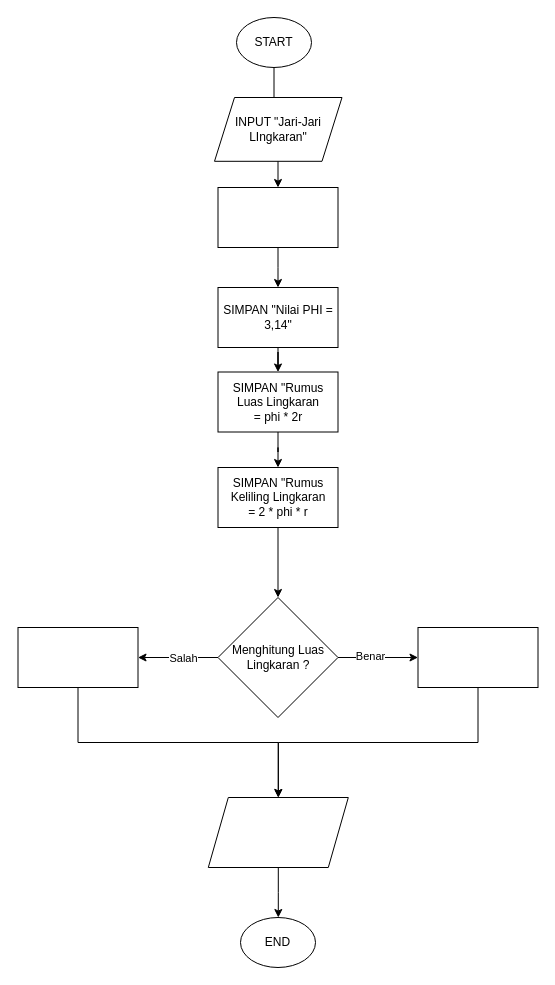
This 555x985 diagram has some shape labels left out. Each missing label, with the centre of its shape:
MENGHITUNG Keliling Lingkaran dengan rumus "2 * phi * r": [77,657]
MENGHITUNG Luas Lingkaran dengan rumus " phi *2r": [477,657]
SIMPAN "Jari-Jari Lingkaran sebagai variabel r": [277,217]
TAMPILKAN Hasil Perhitungan: [277,832]
